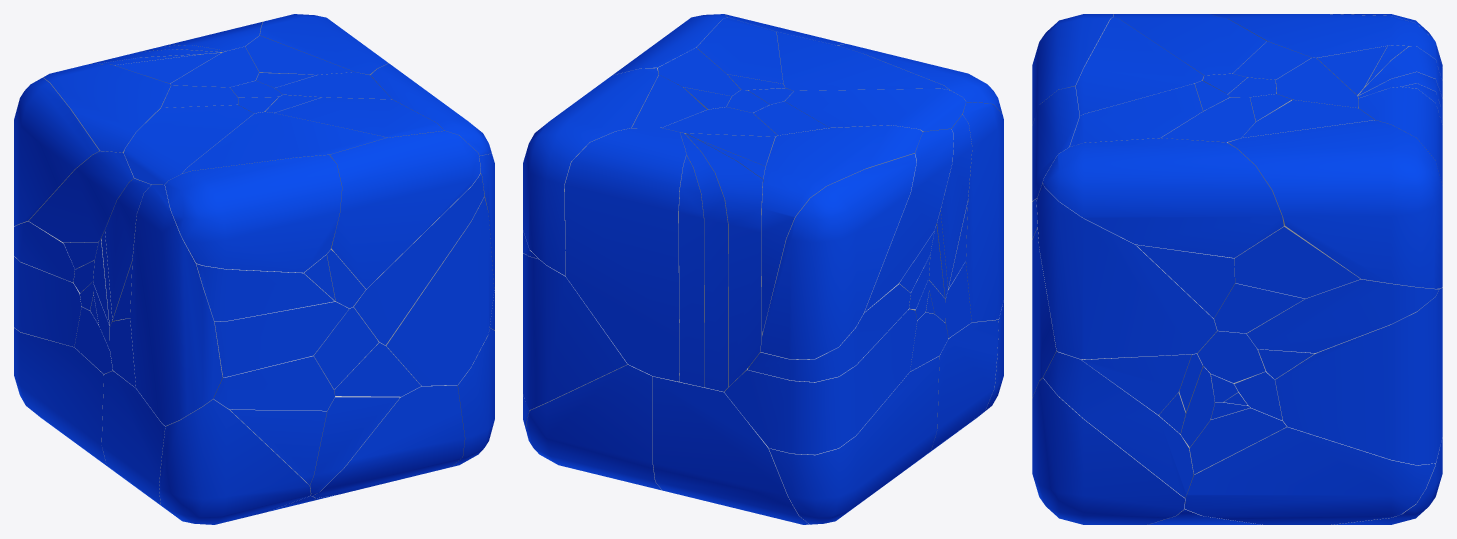
The model's file is BeatSaberBox_NoArrow_Fracture.fbx.
3 views of the same model, side by side, from view 1: azimuth 30°, elevation 25°; view 2: azimuth 150°, elevation 25°; view 3: azimuth 270°, elevation 25° (orthographic). The views are drawn at different scales.
Parts seen in each view (by area): view 1: Cube.003_cell.078, Cube.003_cell.010, Cube.003_cell.081, Cube.003_cell.099, Cube.003_cell.095, Cube.003_cell.034, Cube.003_cell.092, Cube.003_cell.065, Cube.003_cell.006, Cube.003_cell.072, Cube.003_cell.020, Cube.003_cell.005 (+33 smaller); view 2: Cube.003_cell.037, Cube.003_cell.065, Cube.003_cell.079, Cube.003_cell.090, Cube.003_cell.092, Cube.003_cell.041, Cube.003_cell.006, Cube.003_cell.088, Cube.003_cell.075, Cube.003_cell.012, Cube.003_cell.010, Cube.003_cell.005 (+24 smaller); view 3: Cube.003_cell.088, Cube.003_cell.068, Cube.003_cell.075, Cube.003_cell.074, Cube.003_cell.052, Cube.003_cell.084, Cube.003_cell.070, Cube.003_cell.021, Cube.003_cell.067, Cube.003_cell.006, Cube.003_cell.005, Cube.003_cell.003 (+29 smaller).
Boxes of the visible parts, box(x1,y1,x2,y2) form: Cube.003_cell.078: box(165, 155, 341, 272); Cube.003_cell.010: box(130, 184, 222, 425); Cube.003_cell.081: box(329, 131, 480, 289); Cube.003_cell.099: box(159, 399, 310, 524); Cube.003_cell.095: box(385, 197, 494, 385); Cube.003_cell.034: box(313, 385, 464, 498); Cube.003_cell.092: box(14, 328, 109, 467); Cube.003_cell.065: box(14, 77, 99, 226); Cube.003_cell.006: box(43, 64, 170, 153); Cube.003_cell.072: box(353, 173, 484, 345); Cube.003_cell.020: box(214, 297, 348, 377); Cube.003_cell.005: box(124, 105, 253, 184); Cube.003_cell.037: box(564, 128, 686, 381); Cube.003_cell.065: box(760, 153, 916, 359); Cube.003_cell.079: box(653, 376, 809, 524); Cube.003_cell.090: box(724, 309, 917, 454); Cube.003_cell.092: box(769, 356, 939, 524); Cube.003_cell.041: box(526, 364, 661, 490); Cube.003_cell.006: box(761, 125, 922, 334); Cube.003_cell.088: box(523, 68, 658, 275); Cube.003_cell.075: box(523, 253, 627, 409); Cube.003_cell.012: box(685, 133, 762, 386); Cube.003_cell.010: box(961, 102, 1003, 322); Cube.003_cell.005: box(785, 88, 965, 131); Cube.003_cell.088: box(1228, 120, 1442, 288); Cube.003_cell.068: box(1043, 138, 1283, 257); Cube.003_cell.075: box(1275, 287, 1442, 465); Cube.003_cell.074: box(1036, 183, 1217, 359); Cube.003_cell.052: box(1185, 426, 1435, 524); Cube.003_cell.084: box(1032, 378, 1184, 524); Cube.003_cell.070: box(1043, 351, 1193, 497); Cube.003_cell.021: box(1246, 279, 1439, 352); Cube.003_cell.067: box(1075, 17, 1203, 115); Cube.003_cell.006: box(1209, 14, 1442, 80); Cube.003_cell.005: box(1113, 14, 1266, 76); Cube.003_cell.003: box(1234, 226, 1360, 298).
Size of the model in its own units: 200 by 200 by 200.
